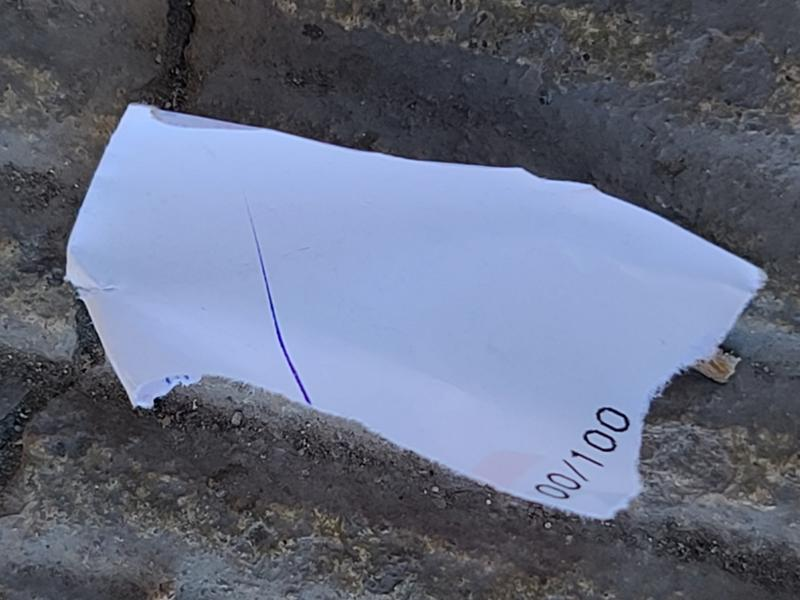papel: (65, 104, 767, 521)
